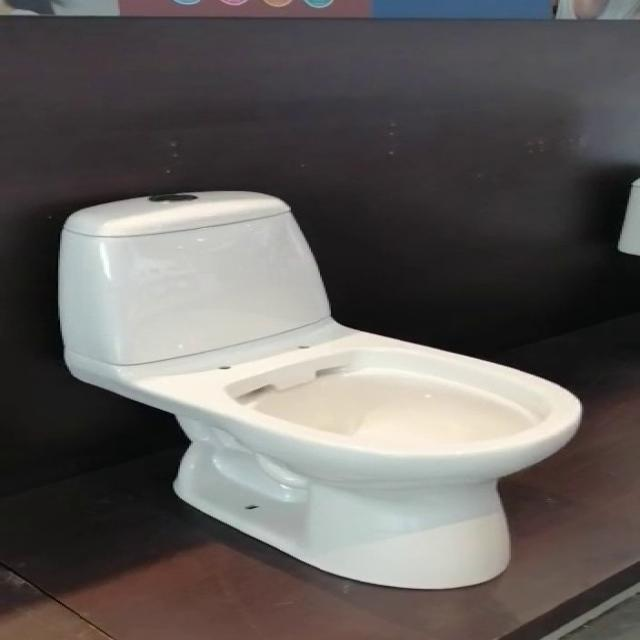toilet: (56, 189, 582, 590)
